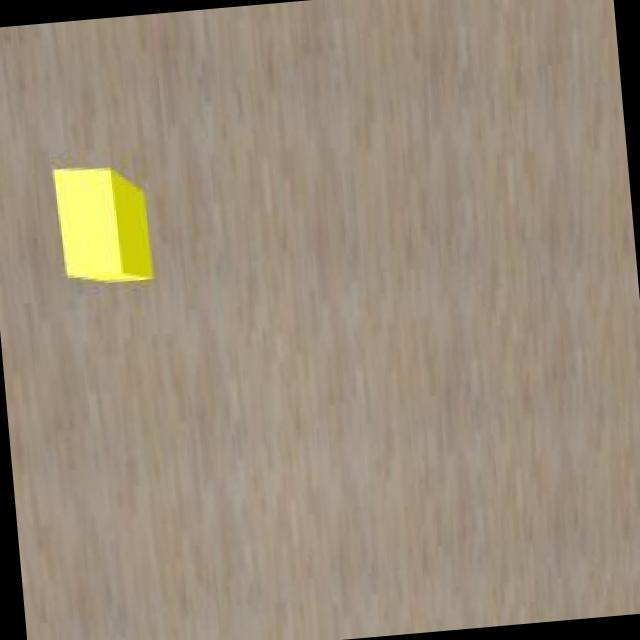cube-cAb5: (51, 159, 154, 289)
